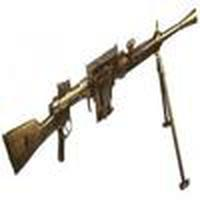gun: (4, 10, 199, 176)
